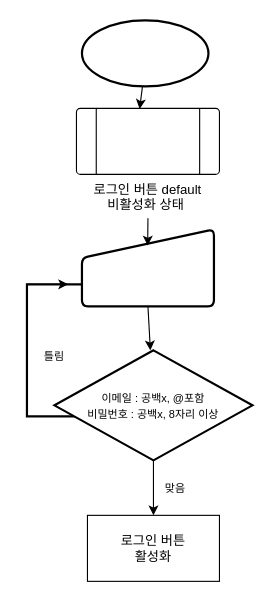
Some shapes in this 273 by 601 pixel diagram are drawn without their labels. Here are the shapes that lost their labels. From the top down, the centre of each, then its label:
At (x=144, y=53): "Strart".
At (x=147, y=267): "이메일, 비밀번호 입력".
